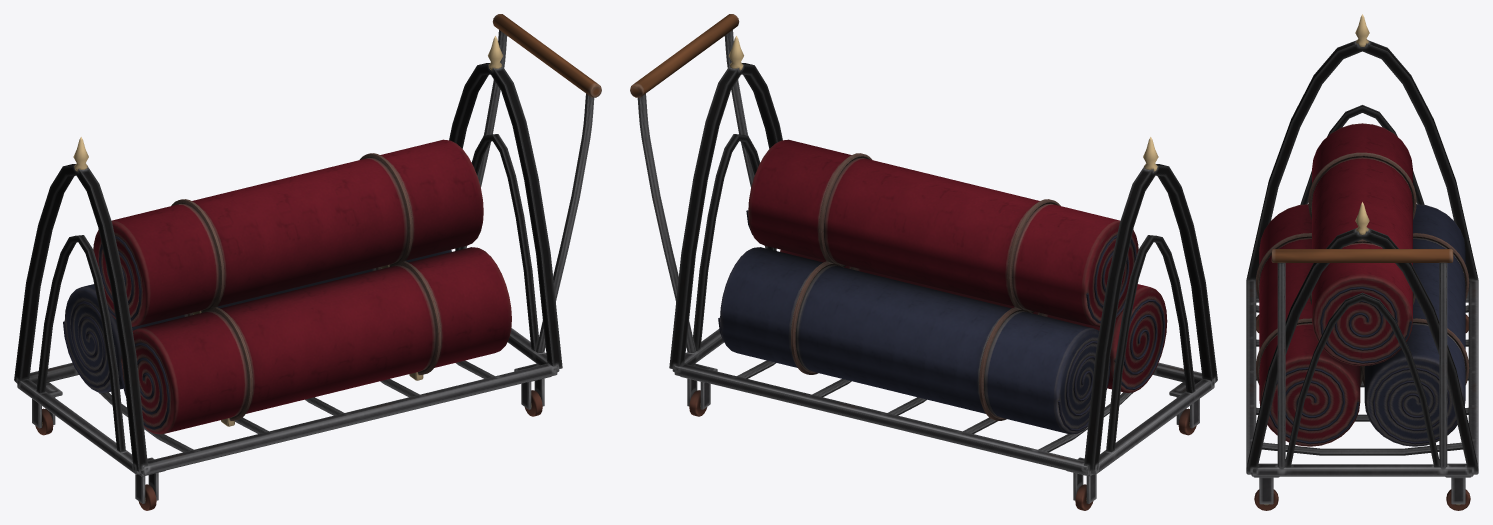
The model's file is MatTrolley.fbx.
The picture shows the model from 3 angles, left to right: view 1: azimuth 30°, elevation 25°; view 2: azimuth 150°, elevation 25°; view 3: azimuth 270°, elevation 25°; orthographic projection. The views are drawn at different scales.
Parts seen in each view (by area): view 1: MatTrolley; view 2: MatTrolley; view 3: MatTrolley.
Boxes of the visible parts, x1=… form: MatTrolley: x1=14, y1=14, x2=601, y2=510; MatTrolley: x1=630, y1=14, x2=1217, y2=510; MatTrolley: x1=1246, y1=14, x2=1478, y2=510.
Bounding box in the file's own units: 509 × 344 × 230.
